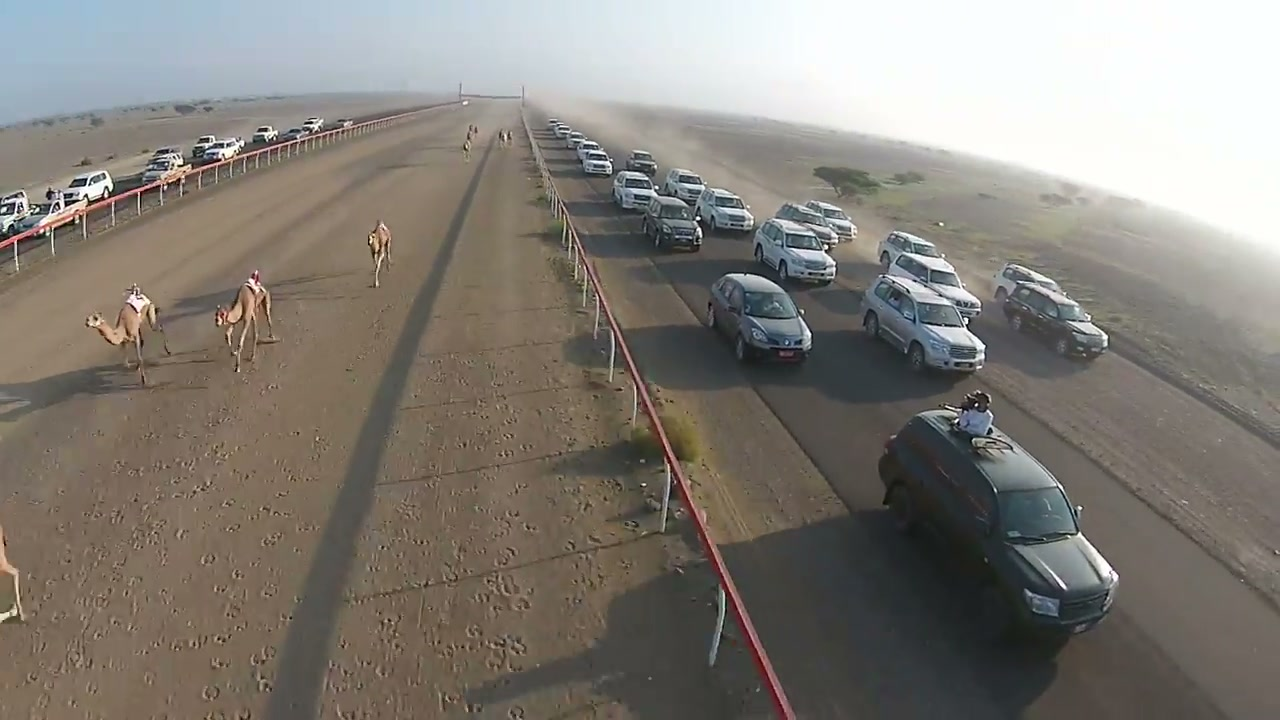animal_foot_print: (40, 406, 297, 713), (431, 298, 551, 709)
